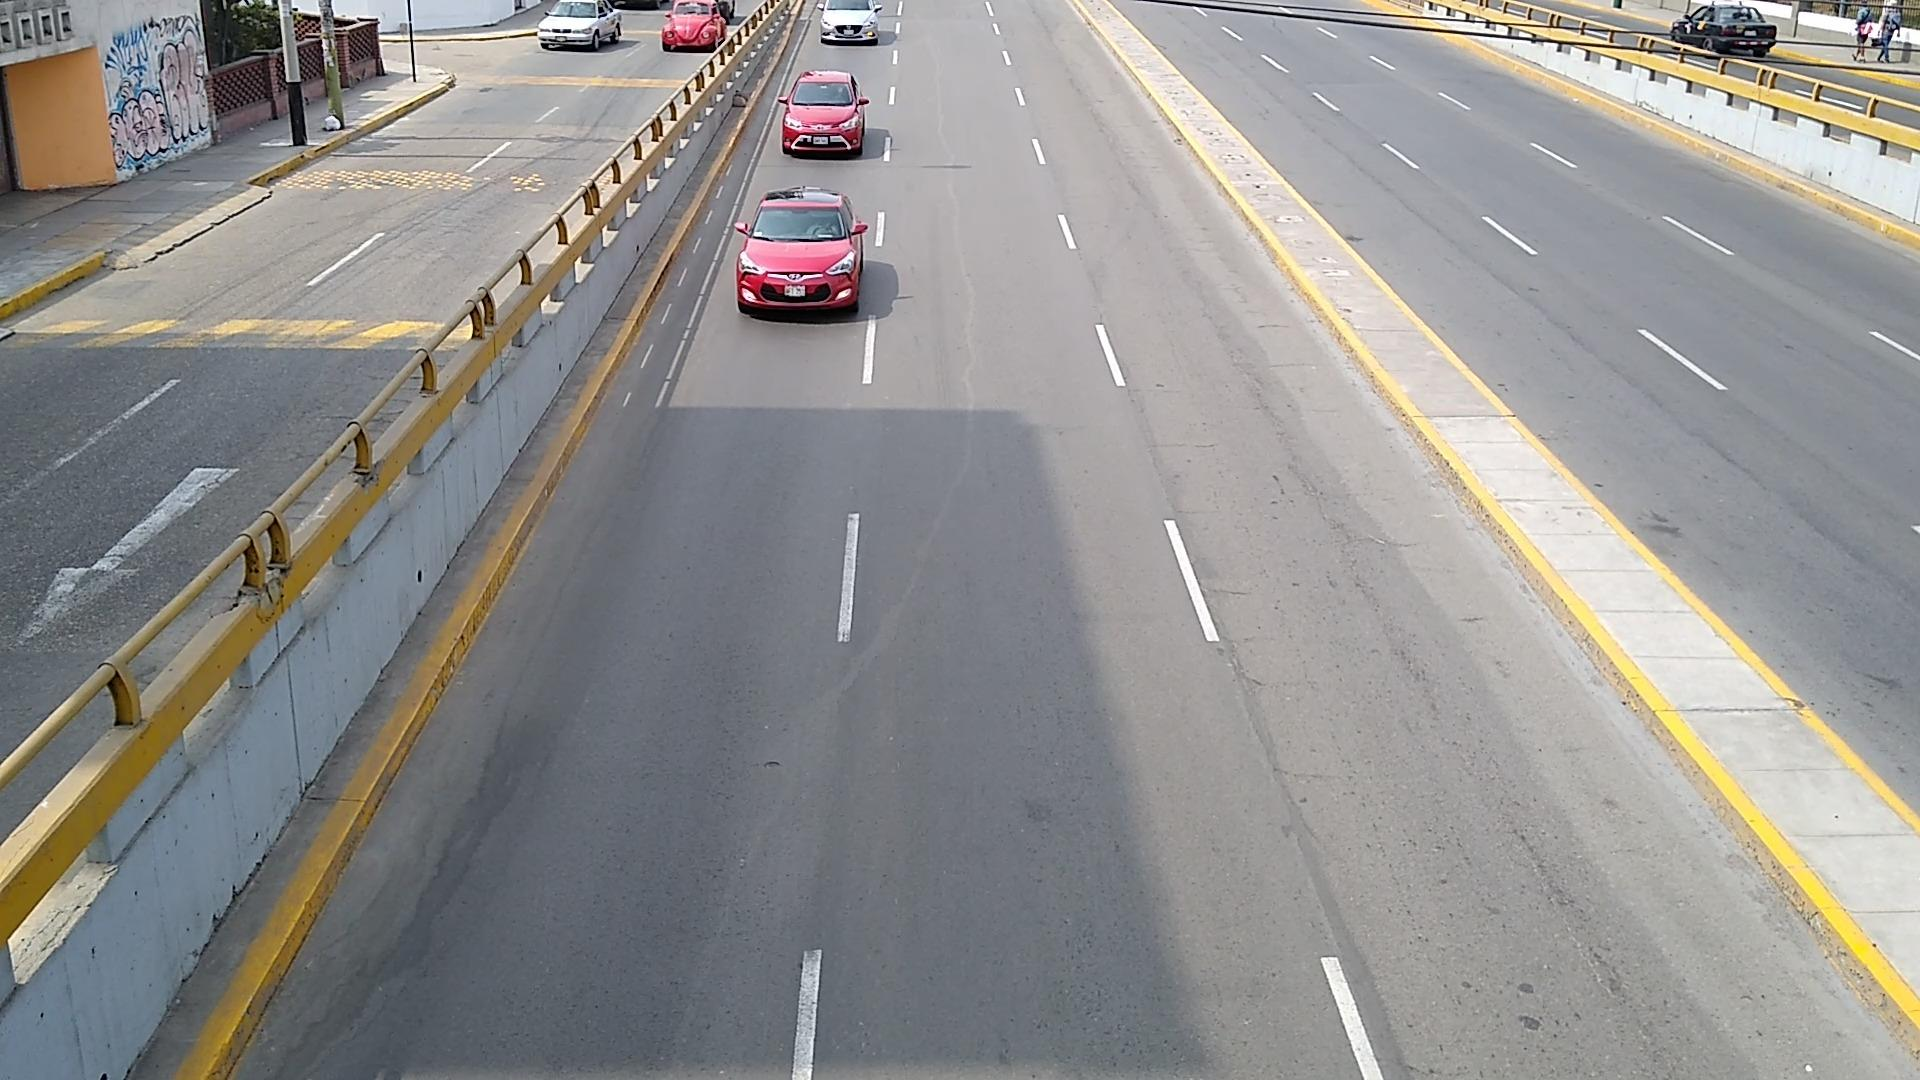car: (735, 188, 866, 315), (780, 71, 870, 156), (1669, 4, 1778, 56), (536, 0, 622, 49), (660, 0, 728, 47)
